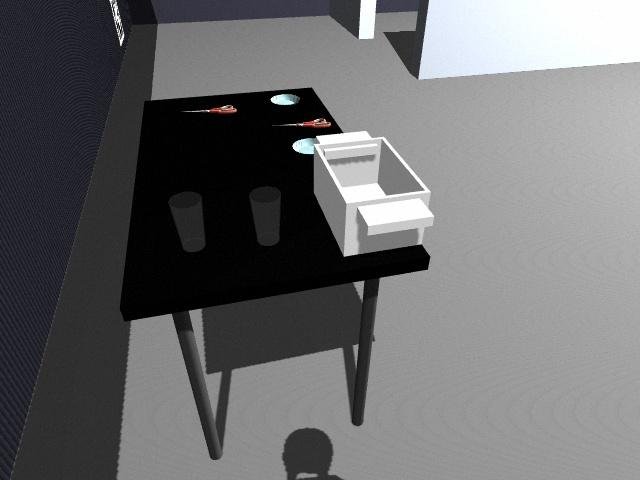cup: (168, 191, 205, 251), (248, 187, 281, 246)
plate: (292, 137, 320, 155), (270, 93, 301, 106)
scissors: (273, 118, 330, 128), (183, 104, 236, 114)
